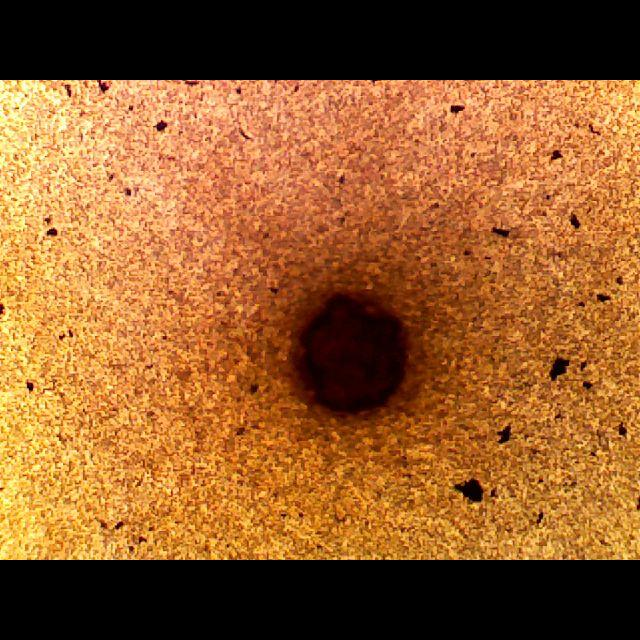microbeads: (284, 290, 412, 418)
